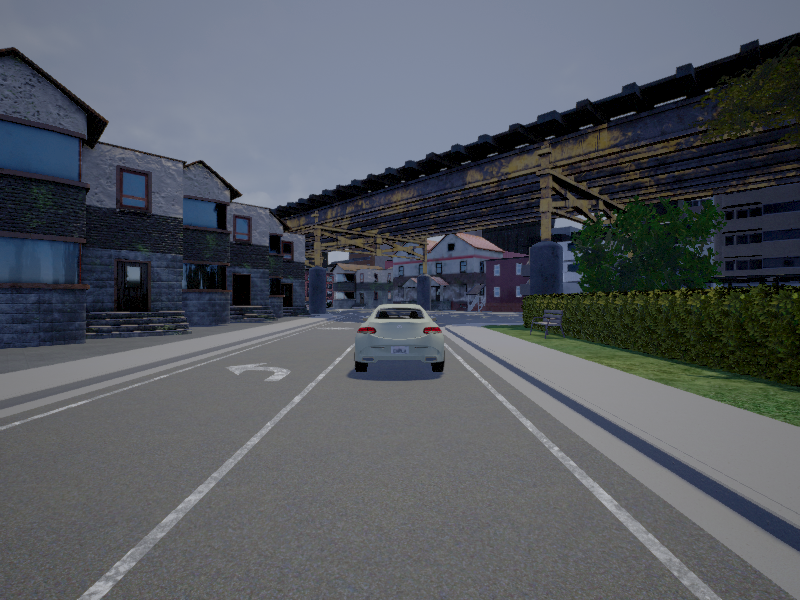Benign: (356, 303, 445, 373)
